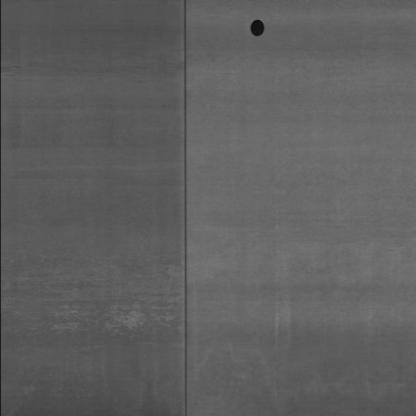punching_hole: (242, 17, 268, 40)
welding_line: (176, 1, 196, 415)
